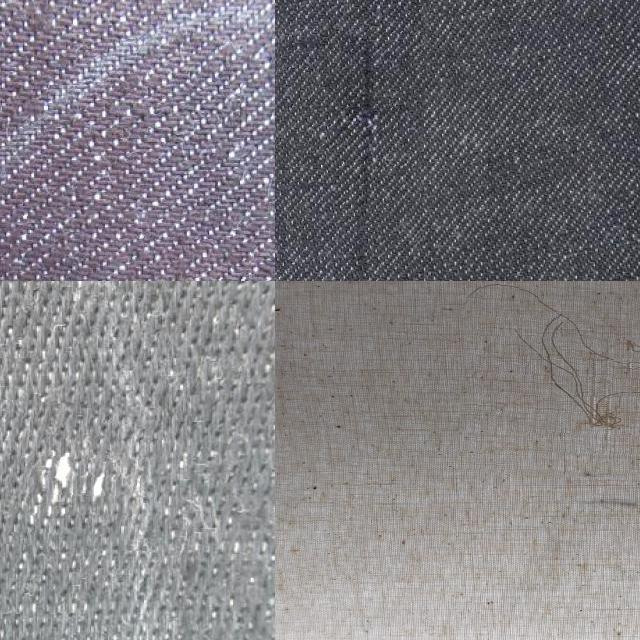stains: (275, 0, 428, 281), (459, 281, 640, 481), (0, 401, 162, 549), (4, 209, 275, 281)
